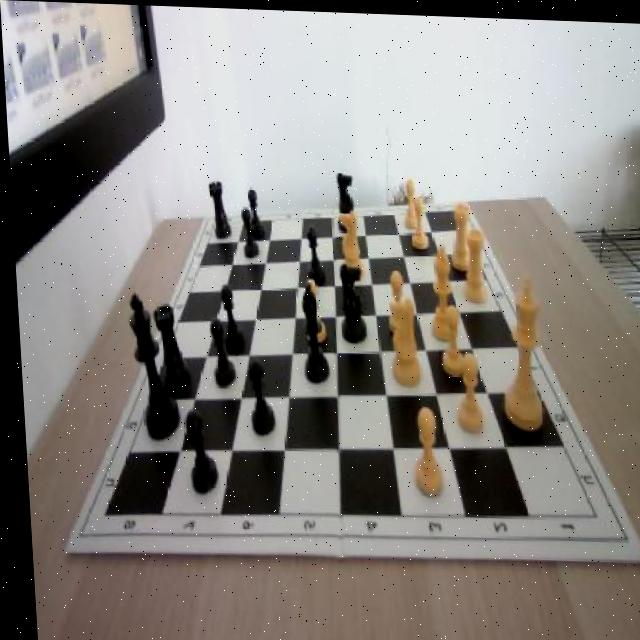bishop: (298, 281, 327, 379)
black-bishop: (124, 294, 176, 440)
black-king: (334, 261, 362, 343), (332, 165, 356, 230)
black-knight: (180, 408, 213, 493), (241, 356, 270, 433), (206, 317, 233, 386), (216, 281, 241, 349), (301, 224, 322, 281), (238, 205, 256, 259), (244, 187, 261, 237)
black-queen: (150, 301, 186, 390), (206, 180, 228, 237)
black-rook: (425, 241, 455, 339)
white-bishop: (493, 266, 542, 427)
white-king: (380, 284, 423, 387), (334, 205, 360, 278)
white-knight: (405, 404, 441, 495), (448, 346, 482, 432), (434, 300, 465, 377), (382, 268, 409, 336), (298, 274, 322, 341), (406, 195, 426, 245), (399, 179, 419, 228)
white-queen: (455, 223, 486, 298), (446, 197, 472, 271)
